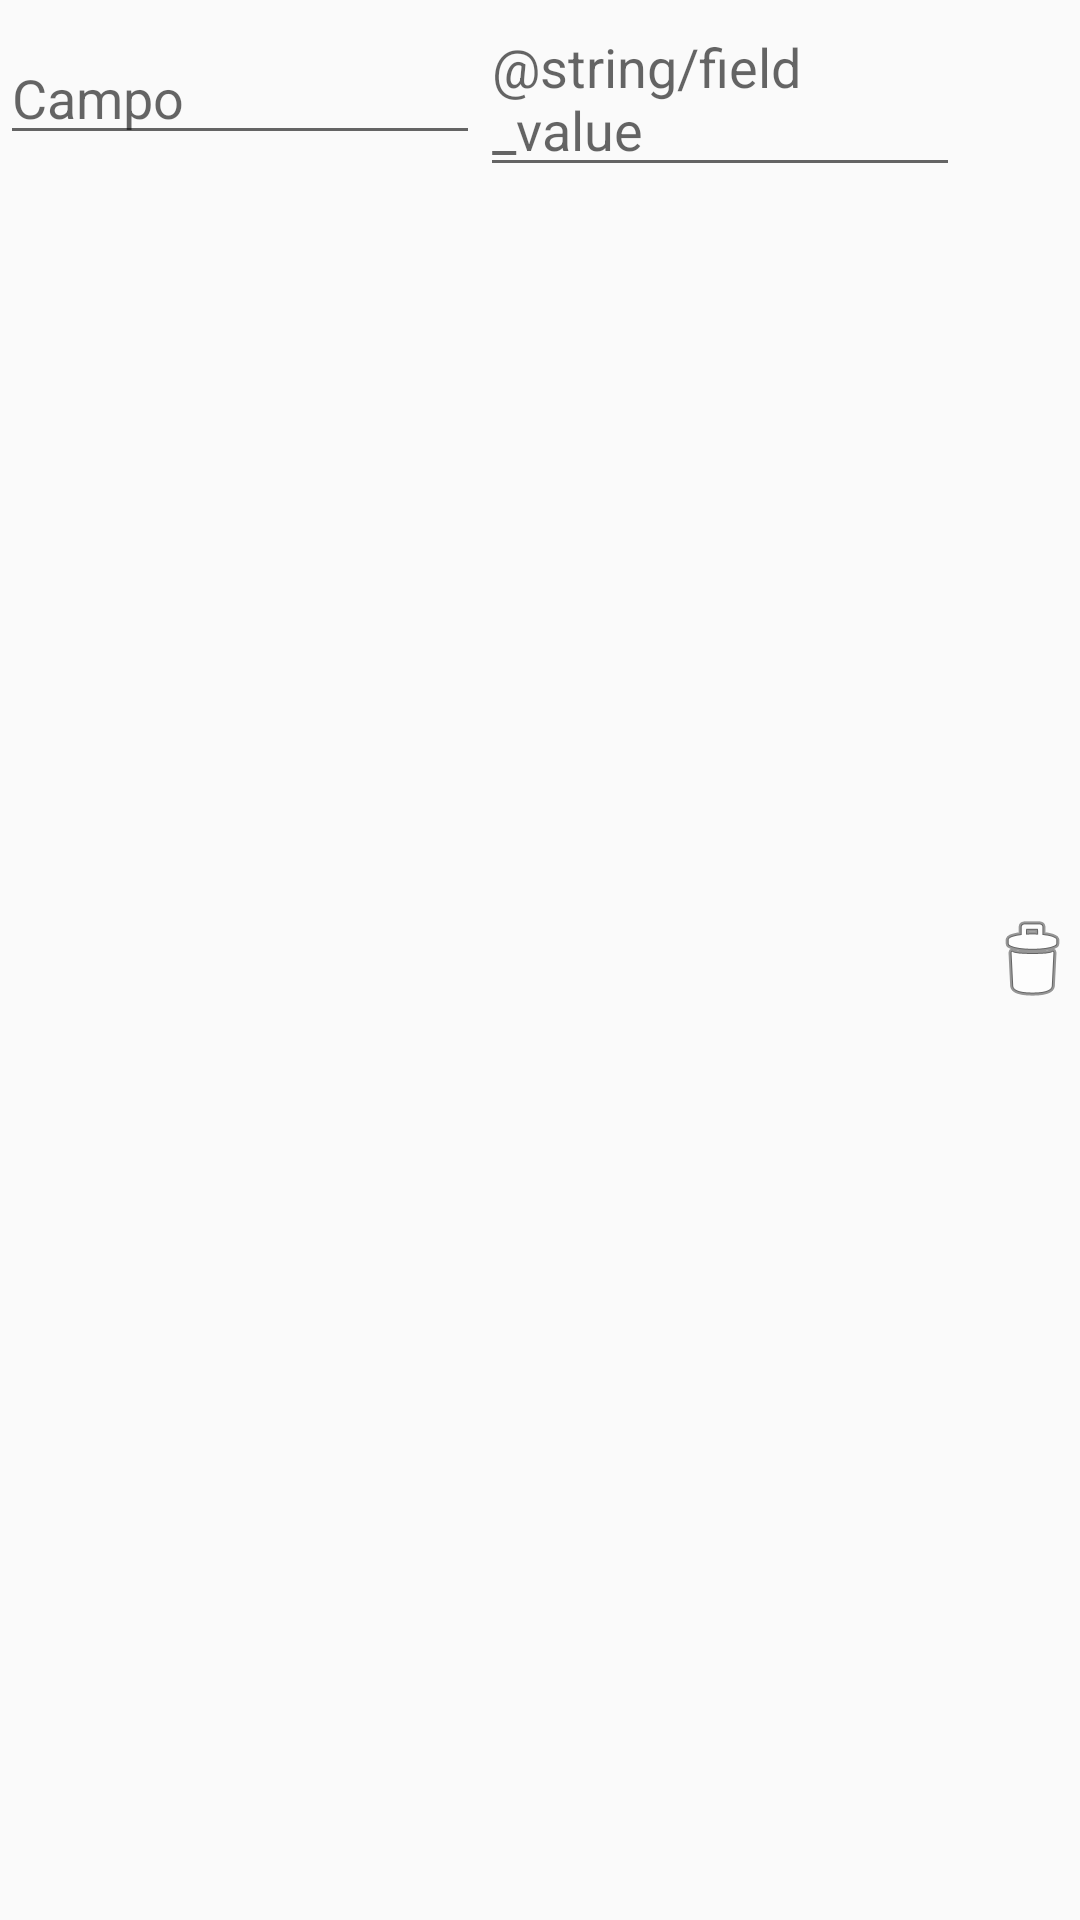

Locate icon controls on the screen. Image size 1080×1920, boxes as (left=x1, top=y1, right=x2, bottom=y2).
Eliminar Campo: (left=1005, top=921, right=1060, bottom=996)
